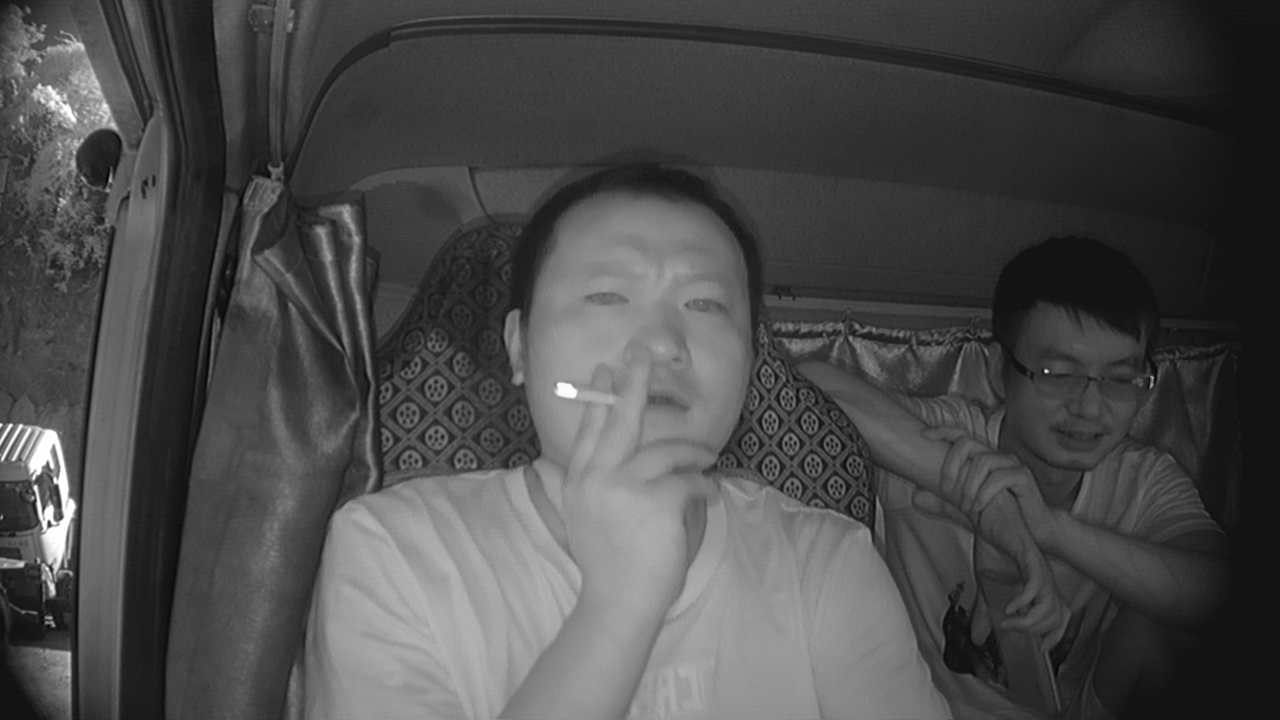hand: (553, 356, 710, 529)
